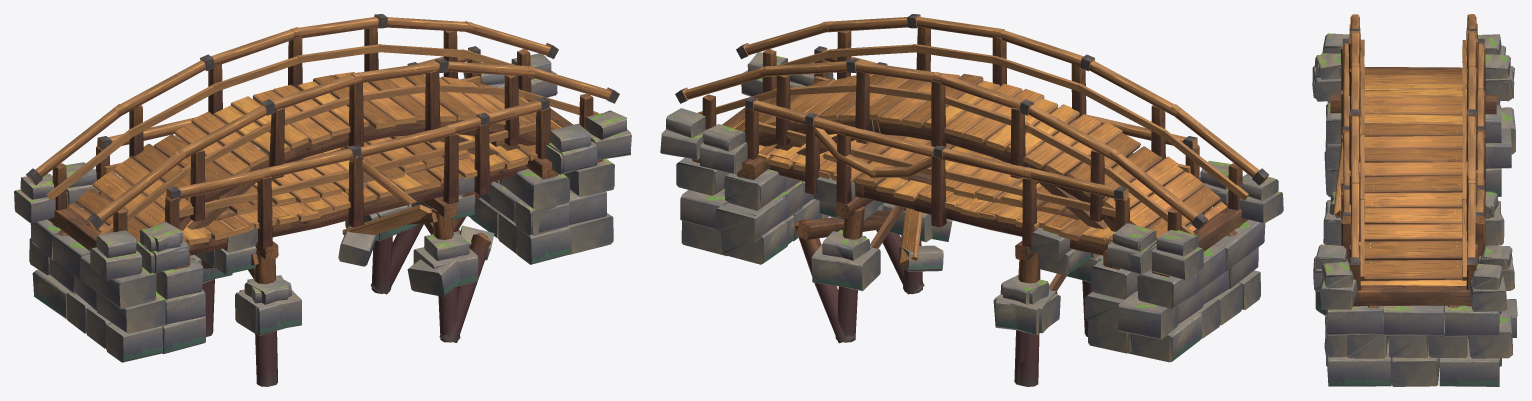
Rendered from Woodbridge.glb.
3 renders of one model, left to right at view 1: azimuth 30°, elevation 25°; view 2: azimuth 150°, elevation 25°; view 3: azimuth 270°, elevation 25°, orthographic. The views are drawn at different scales.
Visible parts, largest first — view 1: BridgeArched, BridgeBroken, BridgeFlat, BridgePlank; view 2: BridgeArched, BridgeFlat, BridgeBroken, BridgePlank; view 3: BridgeArched, BridgeBroken, BridgeFlat.
Part boxes in pixels (x1=…): BridgeArched: x1=14, y1=14, x2=631, y2=362; BridgeBroken: x1=66, y1=56, x2=595, y2=386; BridgeFlat: x1=66, y1=46, x2=597, y2=384; BridgePlank: x1=190, y1=135, x2=474, y2=274; BridgeArched: x1=660, y1=14, x2=1283, y2=362; BridgeFlat: x1=700, y1=46, x2=1228, y2=386; BridgeBroken: x1=702, y1=49, x2=1230, y2=385; BridgePlank: x1=814, y1=135, x2=1099, y2=275; BridgeArched: x1=1319, y1=14, x2=1515, y2=386; BridgeBroken: x1=1312, y1=38, x2=1514, y2=366; BridgeFlat: x1=1312, y1=44, x2=1517, y2=366.
Bounding box in the file's own units: 37.35 × 19.48 × 13.11.
Materials: 1 (1 with a texture image).
